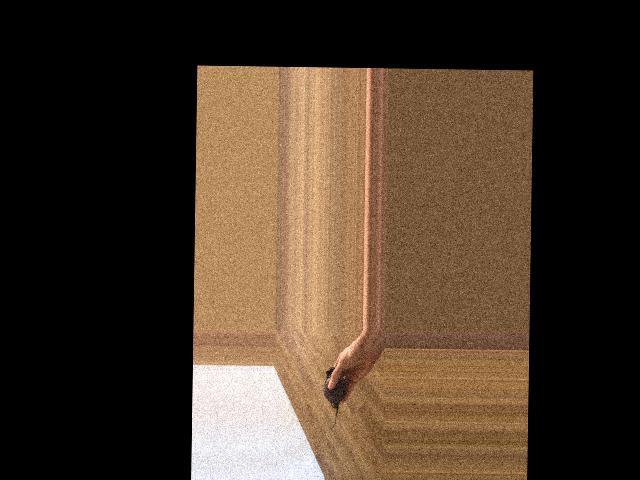beet: (323, 367, 346, 430)
